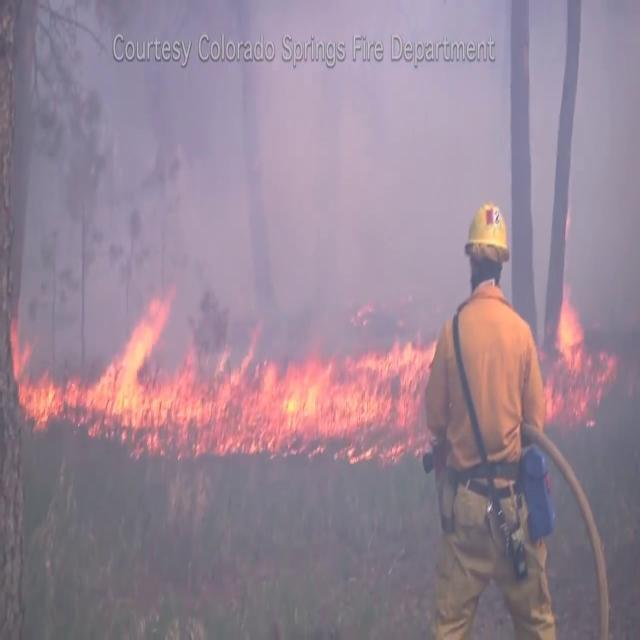Fire: (220, 320, 436, 460), (10, 294, 214, 438), (538, 286, 598, 436)
Smoke: (4, 1, 640, 367)
